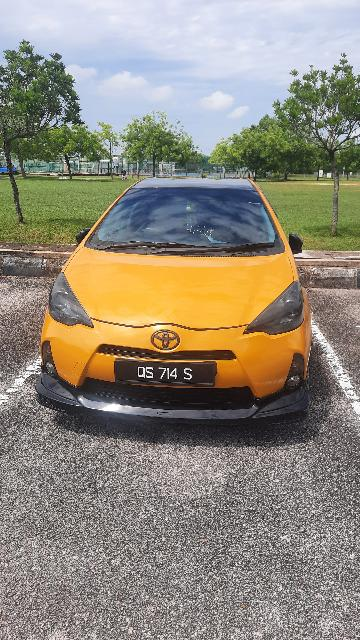License_Plate: (112, 358, 220, 390)
car: (39, 176, 318, 423)
